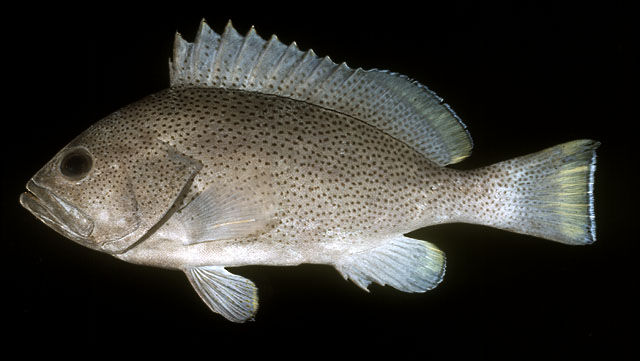fish: (20, 17, 601, 324)
